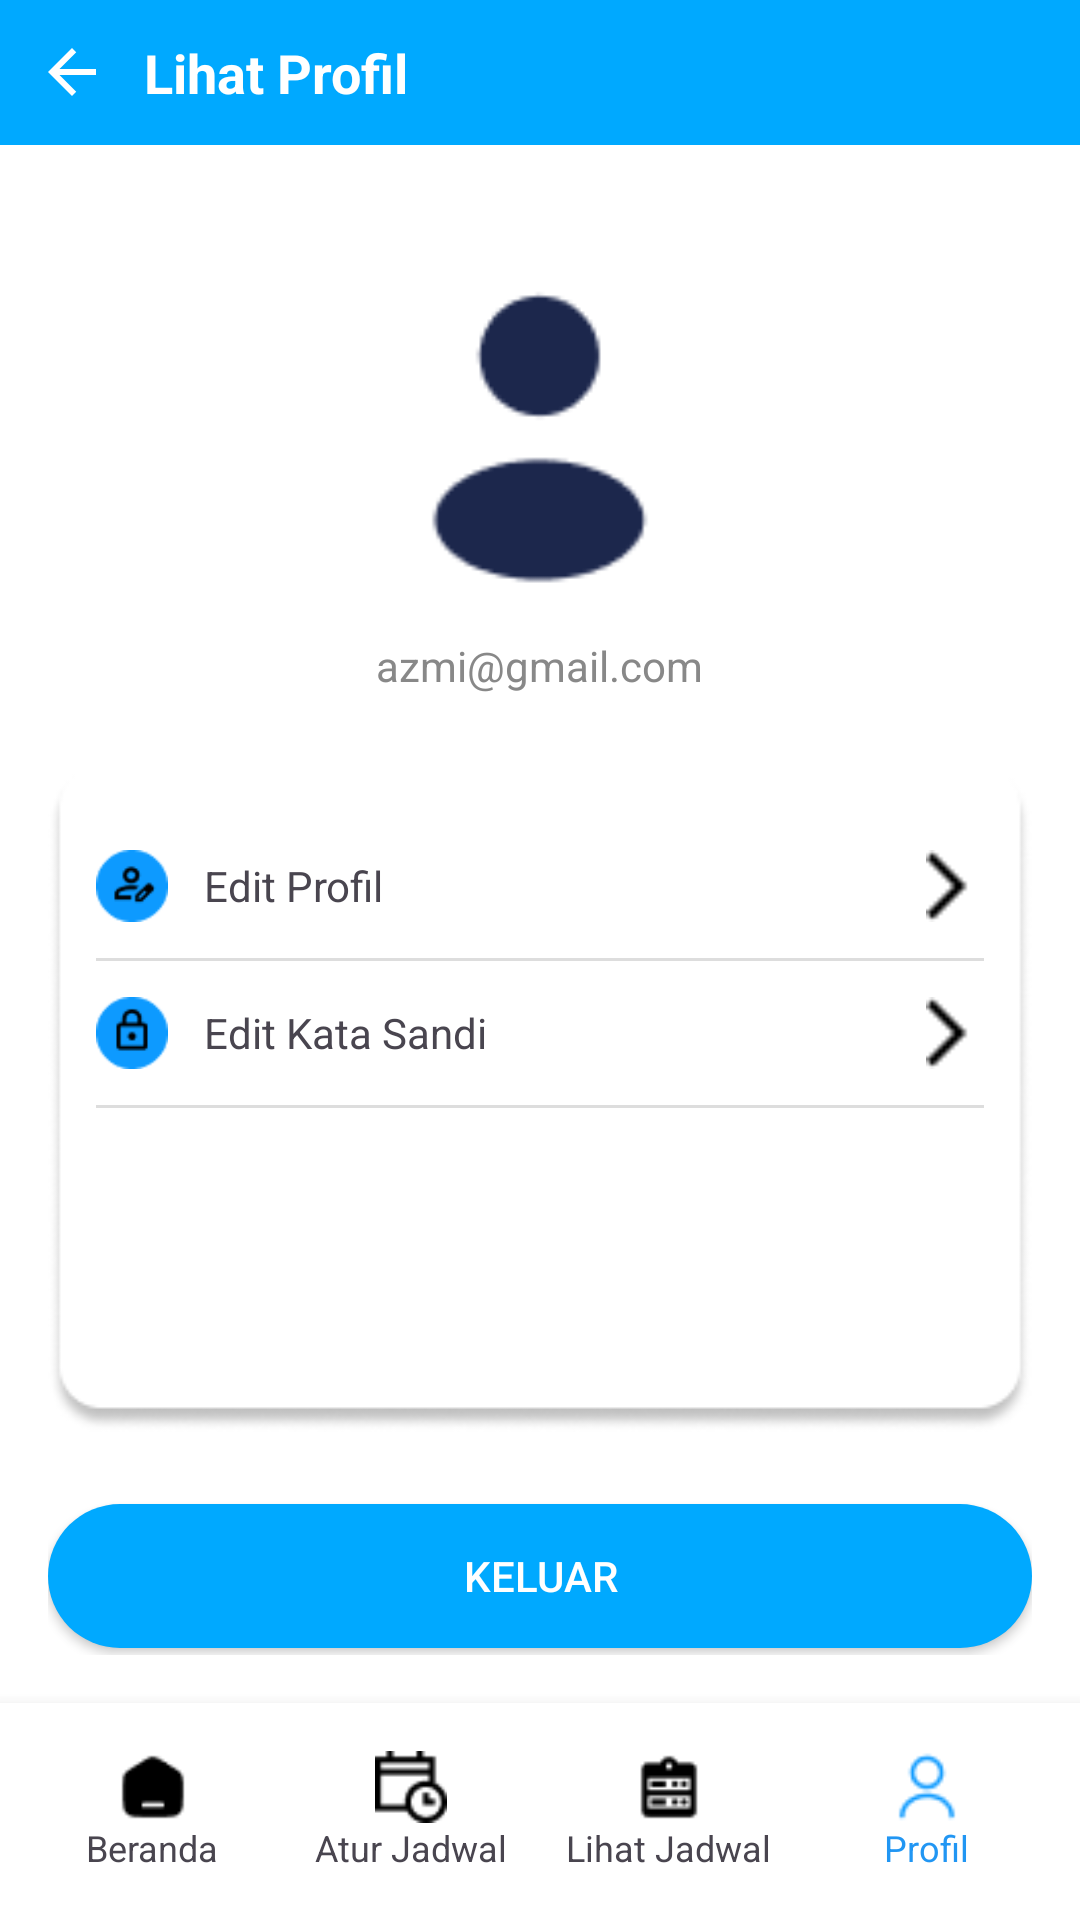

Locate icon controls on the screen. Image size 1080w x 1920h, boxes as (x1, y1, x2, y2).
arrow right: (926, 850, 967, 920), (926, 997, 967, 1067)
back: (48, 48, 96, 96)
Foto profil pengguna: (432, 294, 647, 583)
user biru: (899, 1754, 955, 1819)
